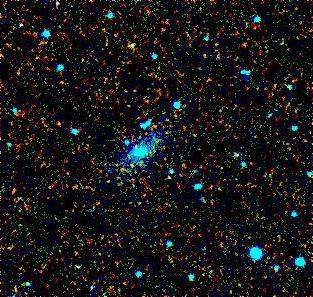star: (172, 145, 202, 175)
